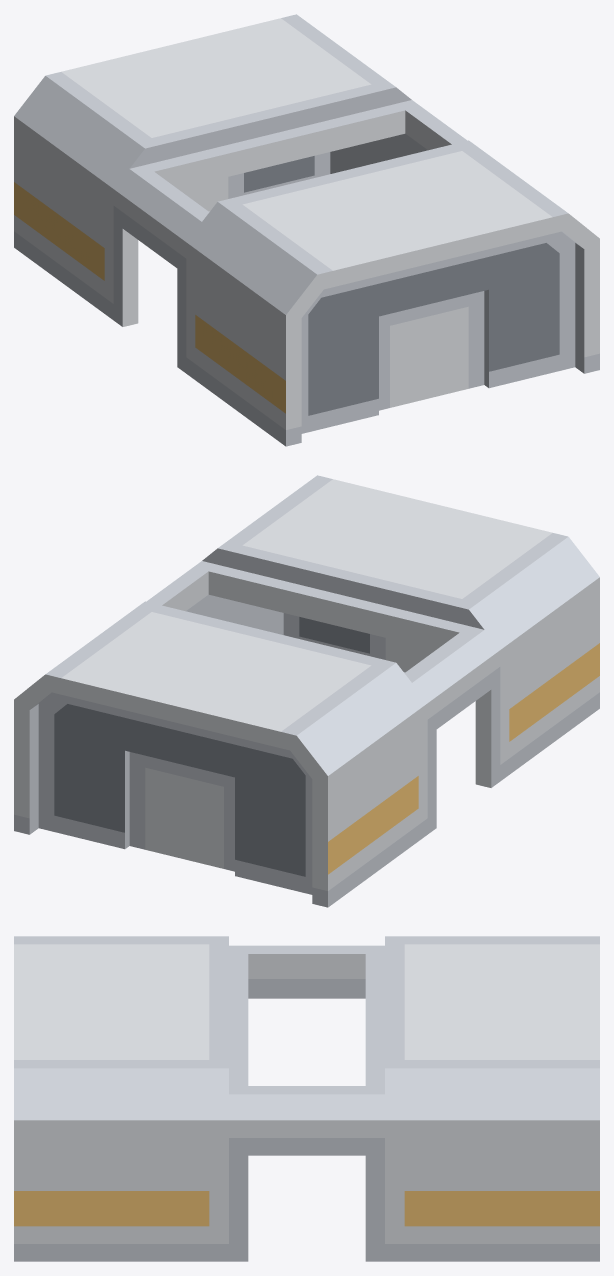
File: hangar_largeA.glb
The picture shows the model from 3 angles, top to bottom: view 1: azimuth 30°, elevation 25°; view 2: azimuth 150°, elevation 25°; view 3: azimuth 270°, elevation 25°; orthographic projection. The views are drawn at different scales.
Visible parts, largest first — view 1: hangar_largeA, gate (×2); view 2: hangar_largeA, gate (×2); view 3: hangar_largeA.
Part boxes in pixels (bbox=[...]): hangar_largeA: bbox=[14, 14, 599, 446]; gate (×2): bbox=[178, 152, 575, 433]; hangar_largeA: bbox=[14, 475, 599, 907]; gate (×2): bbox=[38, 613, 435, 894]; hangar_largeA: bbox=[14, 936, 599, 1261].
Size of the model in its own units: 2 by 1 by 3.
